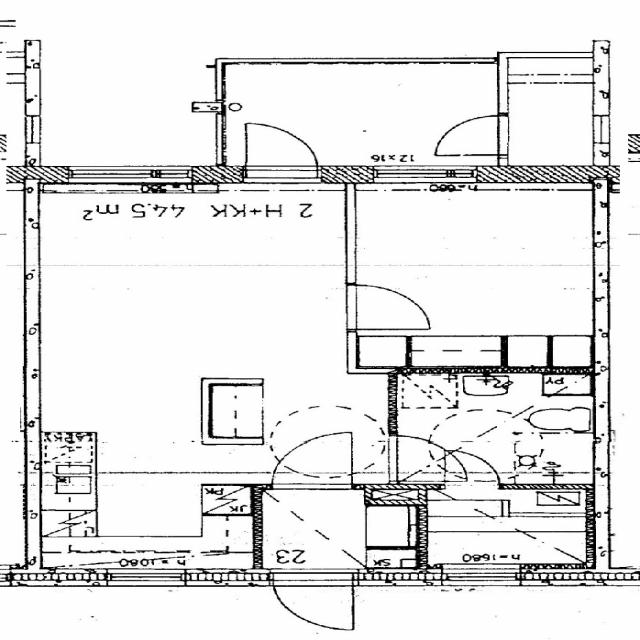door: (273, 568, 353, 636), (272, 433, 352, 489), (246, 121, 316, 182), (388, 436, 468, 480), (346, 284, 426, 328), (435, 116, 507, 155), (444, 449, 499, 489)
